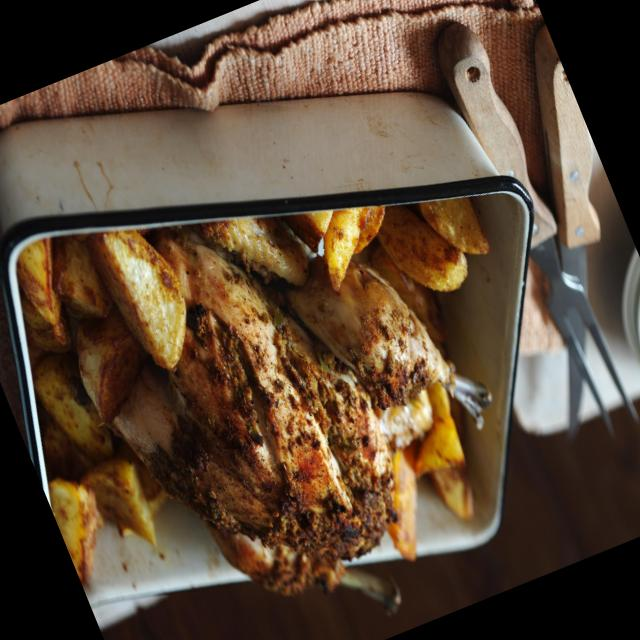chicken: (0, 87, 538, 640)
